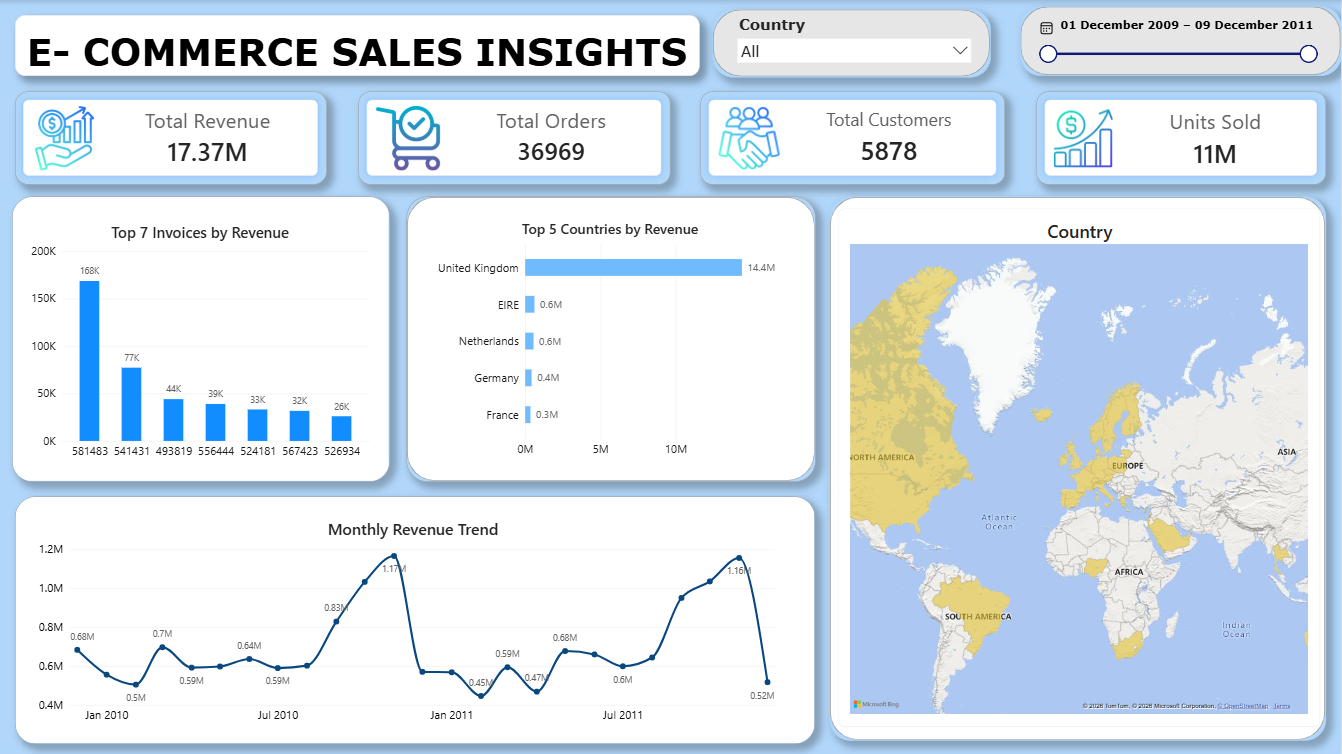

This screenshot's page, from the dashboard's own definition file:
{"tool":"powerbi","page":{"name":"Sales insights","canvas":[1920,1080],"ordinal":0},"visuals":[{"type":"cardVisual","fields":{"Data":["Transactions.Total Revenue"]},"box":[21.5,131.1,446.9,133.2],"z":0},{"type":"cardVisual","fields":{"Data":["Transactions.Total Orders"]},"box":[513.5,131.1,446.9,133.2],"z":1000},{"type":"cardVisual","fields":{"Data":["Transactions.Total Customers"]},"box":[1003.4,131.1,436.2,133.2],"z":2000},{"type":"cardVisual","fields":{"Data":["Transactions.Units Sold"]},"box":[1484.7,131.1,414.7,133.2],"z":3000},{"type":"textbox","box":[21.3,21.3,980.5,87.4],"z":4000},{"type":"shape","box":[21.3,711.1,1145.9,354.4],"z":5000},{"type":"shape","box":[16.5,281.2,541,408.7],"z":6000},{"type":"lineChart","title":"Monthly Revenue Trend","fields":{"Category":["Transactions.InvoiceDate.Variation.Date Hierarchy.Year","Transactions.InvoiceDate.Variation.Date Hierarchy.Month"],"Y":["Sum(Transactions.Revenue)"]},"box":[37.8,727.7,1105.7,328.4],"z":7000},{"type":"shape","box":[1188.4,281.2,711.1,779.7],"z":8000},{"type":"shape","box":[581.2,281.2,585.9,408.7],"z":9000},{"type":"clusteredBarChart","title":" Top 5 Countries by Revenue","fields":{"Category":["Transactions.Country"],"Y":["Transactions.Total Revenue"]},"box":[602.5,297.7,543.4,378],"z":10000},{"type":"columnChart","title":"Top 7 Invoices by Revenue","fields":{"Category":["Transactions.Invoice"],"Y":["Transactions.Total Revenue"]},"box":[28.4,302.4,517.4,375.7],"z":11000},{"type":"shape","box":[1460.2,9.5,460.5,100.2],"z":12000},{"type":"filledMap","title":"Country","fields":{"Category":["Transactions.Country"]},"box":[1200.2,297.7,689.9,741.9],"z":13000},{"type":"slicer","title":"Date","fields":{"Values":["Transactions.InvoiceDate"]},"box":[1478.2,21.5,412.5,109.6],"z":14000},{"type":"shape","box":[1021.2,11.9,398.4,97.8],"z":15000},{"type":"slicer","fields":{"Values":["Transactions.Country"]},"box":[1049.8,21.5,346,88.3],"z":16000}]}

Visuals, with their boxes in screenshot pixels (x1, y1, x2, y2), scaled from the page's 1920x1080 canvas onto the 1342x754 screenshot:
cardVisual - Transactions.Total Revenue: bbox=(15, 92, 327, 185)
cardVisual - Transactions.Total Orders: bbox=(359, 92, 671, 185)
cardVisual - Transactions.Total Customers: bbox=(701, 92, 1006, 185)
cardVisual - Transactions.Units Sold: bbox=(1038, 92, 1328, 185)
textbox: bbox=(15, 15, 700, 76)
shape: bbox=(15, 496, 816, 744)
shape: bbox=(12, 196, 390, 482)
"Monthly Revenue Trend" lineChart: bbox=(26, 508, 799, 737)
shape: bbox=(831, 196, 1328, 741)
shape: bbox=(406, 196, 816, 482)
" Top 5 Countries by Revenue" clusteredBarChart: bbox=(421, 208, 801, 472)
"Top 7 Invoices by Revenue" columnChart: bbox=(20, 211, 381, 473)
shape: bbox=(1021, 7, 1341, 77)
"Country" filledMap: bbox=(839, 208, 1321, 726)
"Date" slicer: bbox=(1033, 15, 1322, 92)
shape: bbox=(714, 8, 992, 77)
slicer - Transactions.Country: bbox=(734, 15, 976, 77)
